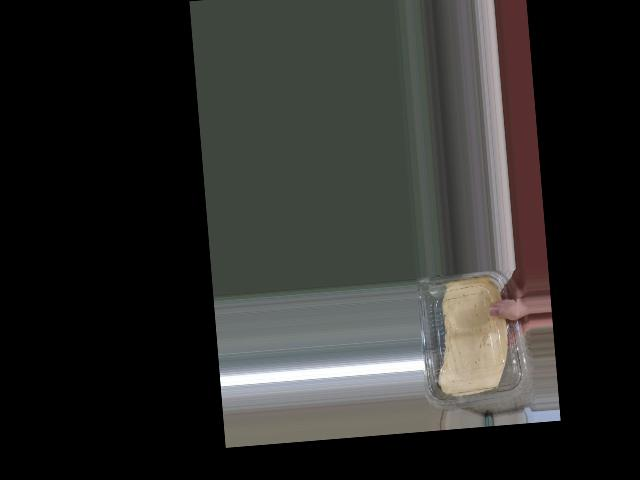cheese: (415, 268, 519, 411)
